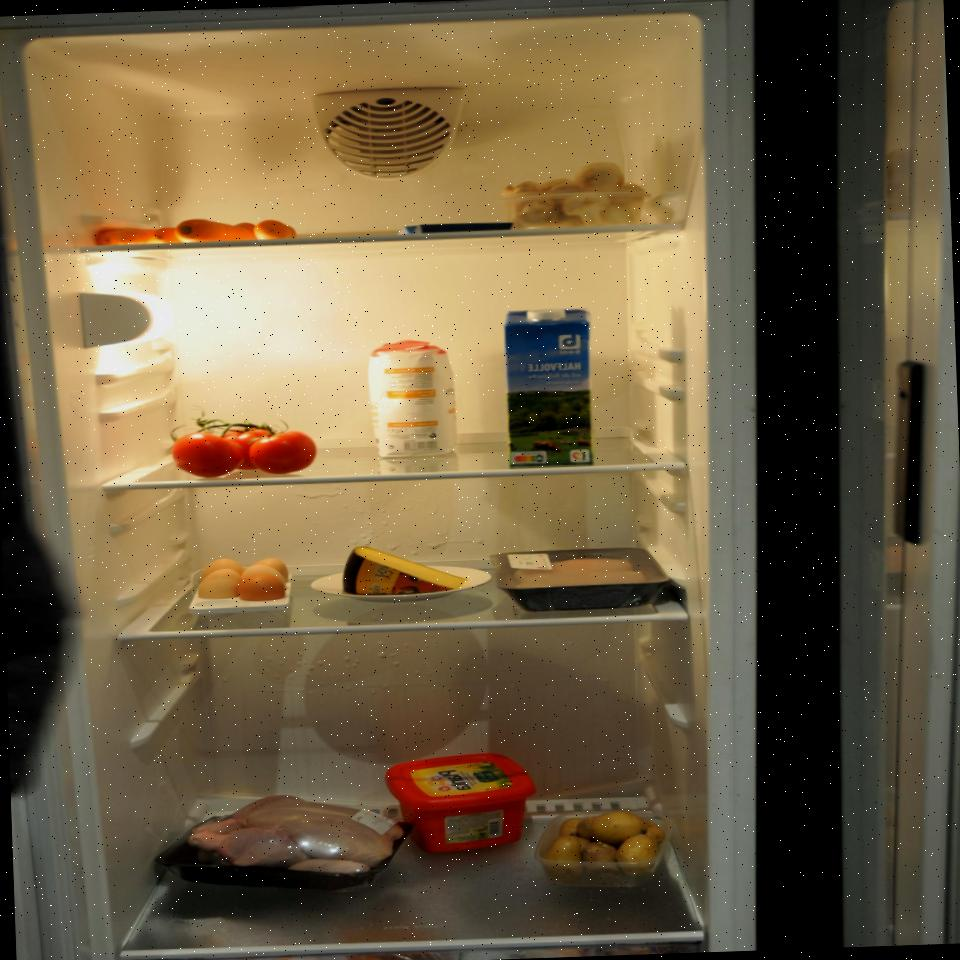Carne pollo: (144, 783, 418, 910), (487, 543, 671, 616)
Huevos: (187, 552, 293, 614)
Leche: (498, 305, 596, 469)
Mantequilla: (381, 748, 545, 860)
Queso: (341, 541, 465, 597)
Tomate: (160, 404, 324, 480)
Zanahoria: (86, 208, 307, 248)
